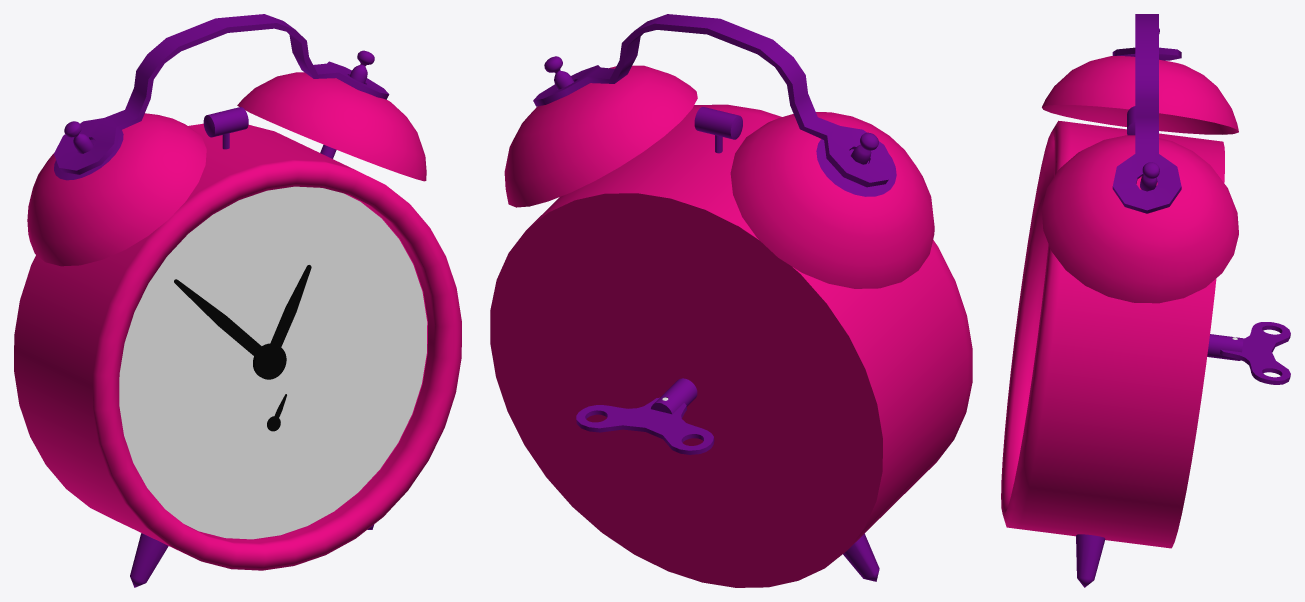
File: Clock.fbx
3 views of the same model, side by side, from view 1: azimuth 30°, elevation 25°; view 2: azimuth 150°, elevation 25°; view 3: azimuth 270°, elevation 25° (orthographic). The views are drawn at different scales.
Parts seen in each view (by area): view 1: vekker3; view 2: vekker3; view 3: vekker3.
Part boxes in pixels (x1,y1,x2,y2): vekker3: [14, 14, 461, 587]; vekker3: [490, 14, 972, 587]; vekker3: [1001, 14, 1290, 587].
Size of the model in its own units: 509 by 672 by 352.
